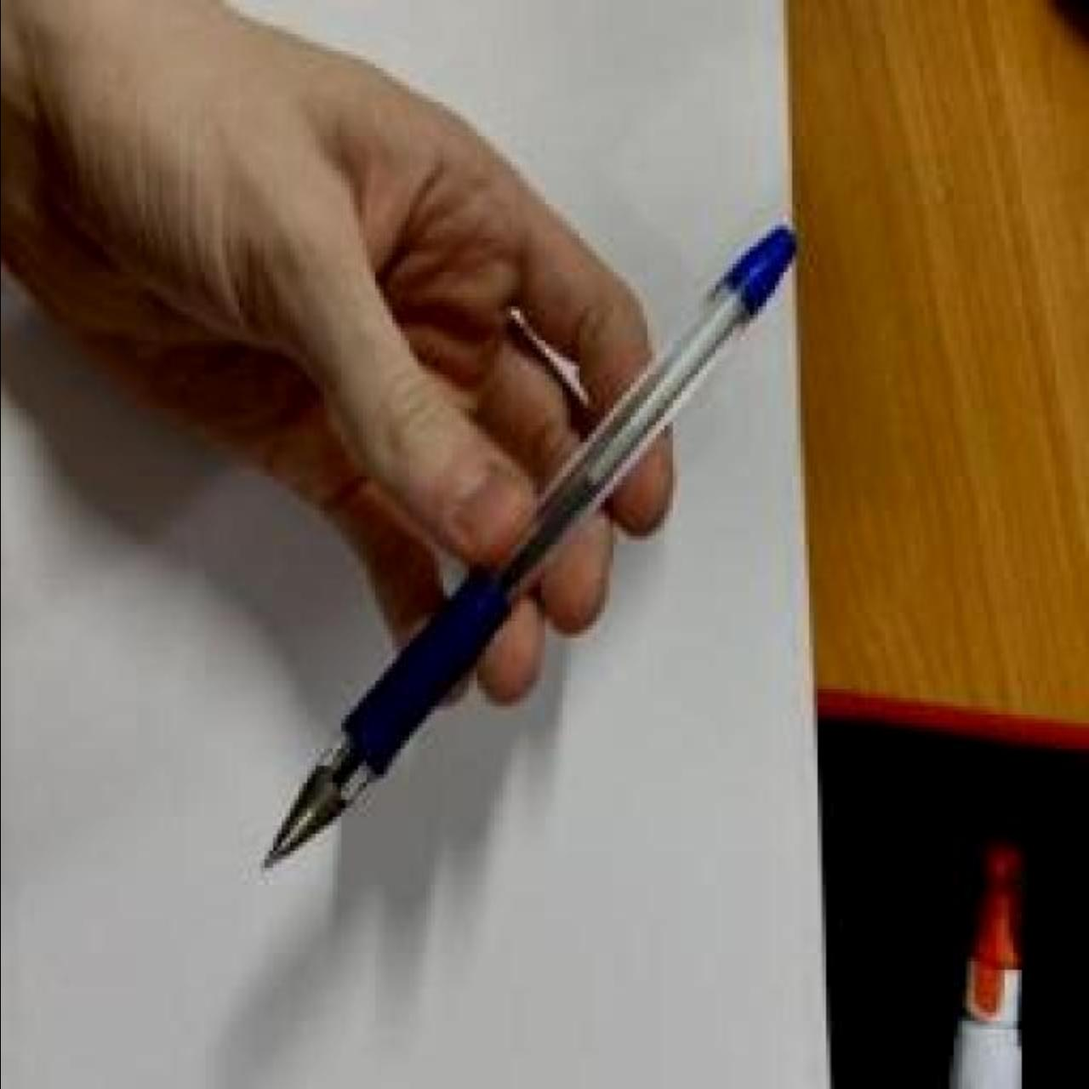pen: (255, 221, 800, 876)
